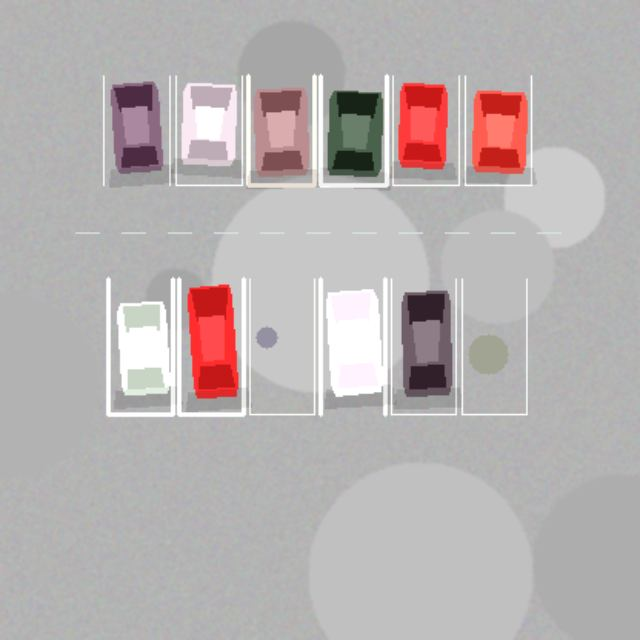space-empty: (249, 278, 314, 414), (462, 278, 526, 414)
space-occupied: (178, 278, 243, 414), (320, 278, 385, 414), (108, 278, 172, 414), (391, 278, 455, 414), (175, 75, 242, 185), (103, 75, 169, 185), (248, 75, 314, 185), (320, 75, 386, 185), (392, 75, 458, 185), (465, 75, 531, 185)
